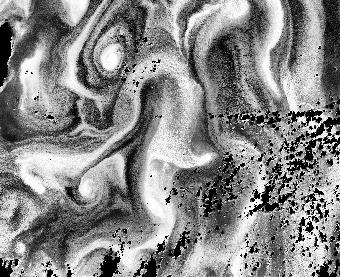CE: (91, 33, 132, 78), (68, 170, 107, 208)
